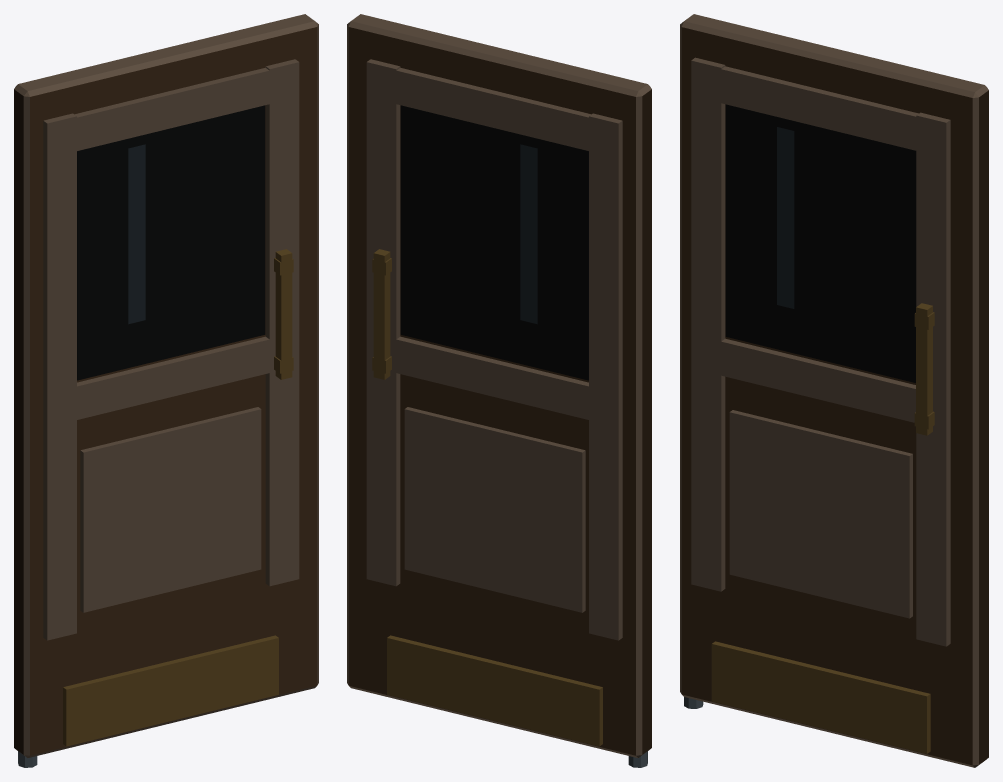
File: lp_museum_door_leaf.glb
3 views of the same model, side by side, from view 1: azimuth 30°, elevation 25°; view 2: azimuth 150°, elevation 25°; view 3: azimuth 330°, elevation 25° (orthographic).
Parts seen in each view (by area): view 1: lp_museum_door_leaf; view 2: lp_museum_door_leaf; view 3: lp_museum_door_leaf.
Part boxes in pixels (x1,y1,x2,y2): lp_museum_door_leaf: (14, 14, 318, 767); lp_museum_door_leaf: (347, 14, 651, 767); lp_museum_door_leaf: (680, 14, 988, 767).
Size of the model in its own units: 1.2 by 2.62 by 0.24.
Materials: 1 (1 with a texture image).
